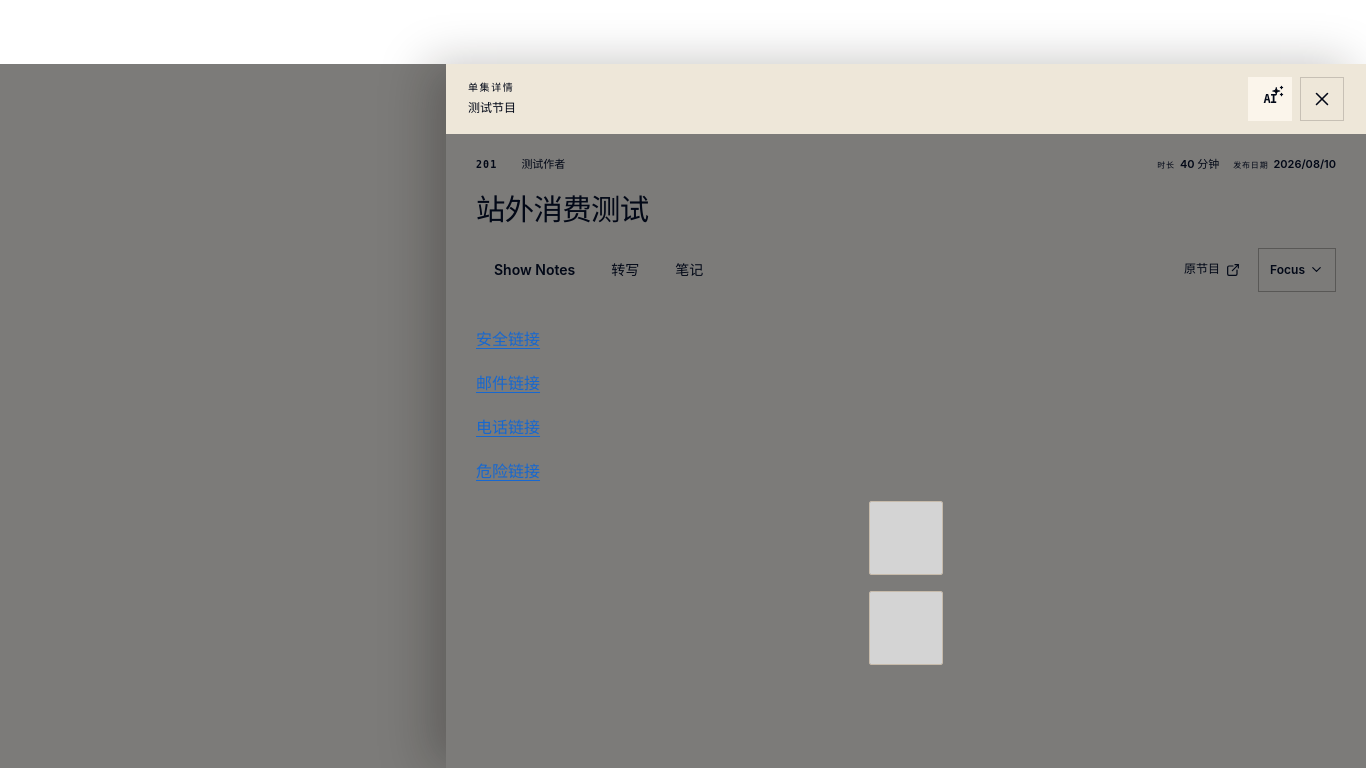
Test: ConsumptionDetailPanel › starts transcription from the transcript body and marks the fixed tab
The image size is (1366, 768).
What coordinates should you click on to do the following:
click the tab "转写"
I would click on:
 (625, 270)
Its box is [593,245,657,295].
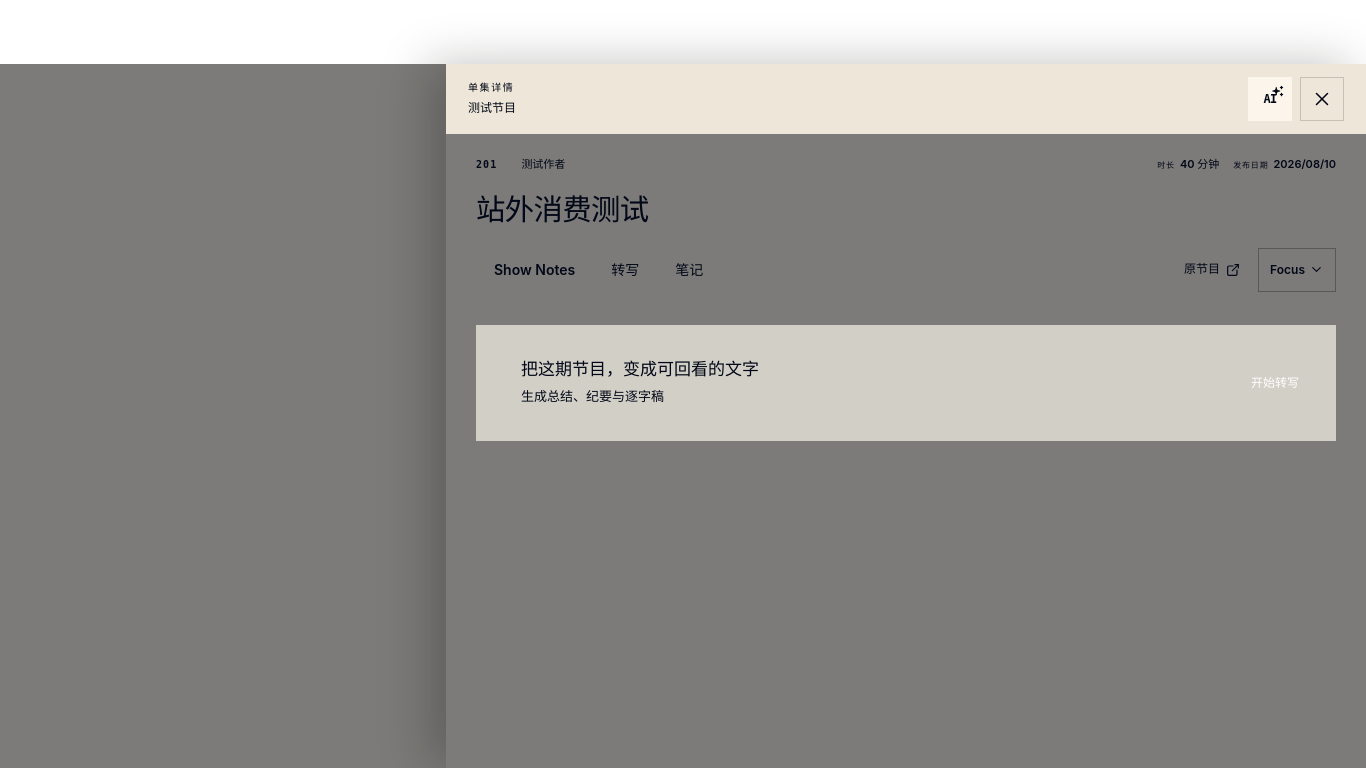
What coordinates should you click on to do the following:
click the button "开始转写"
I would click on:
 (1275, 383)
Its box is [1236,361,1314,405].
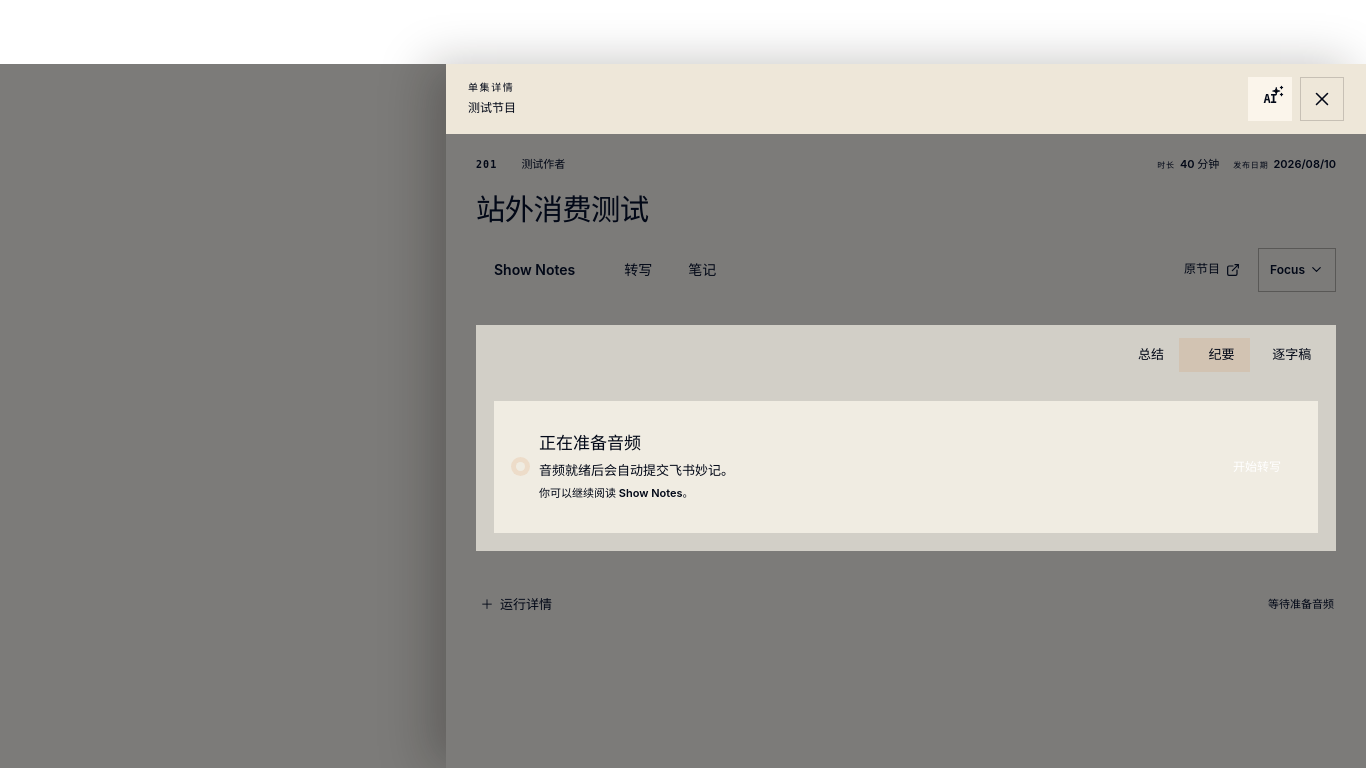
Expected: the button "原节目" is shown, [1177,248,1248,292]
Now the tab with aria-label "转写，准备音频" is shown, box [593,245,670,295]
Now the text "你可以继续阅读 Show Notes。" is shown, box [539,486,694,500]
